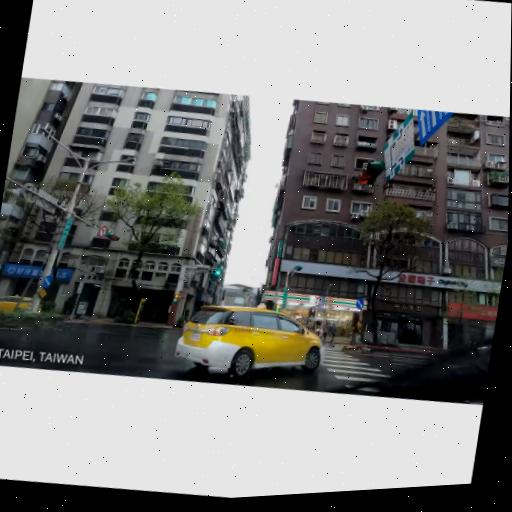Car: (164, 284, 332, 393), (0, 286, 44, 327)
